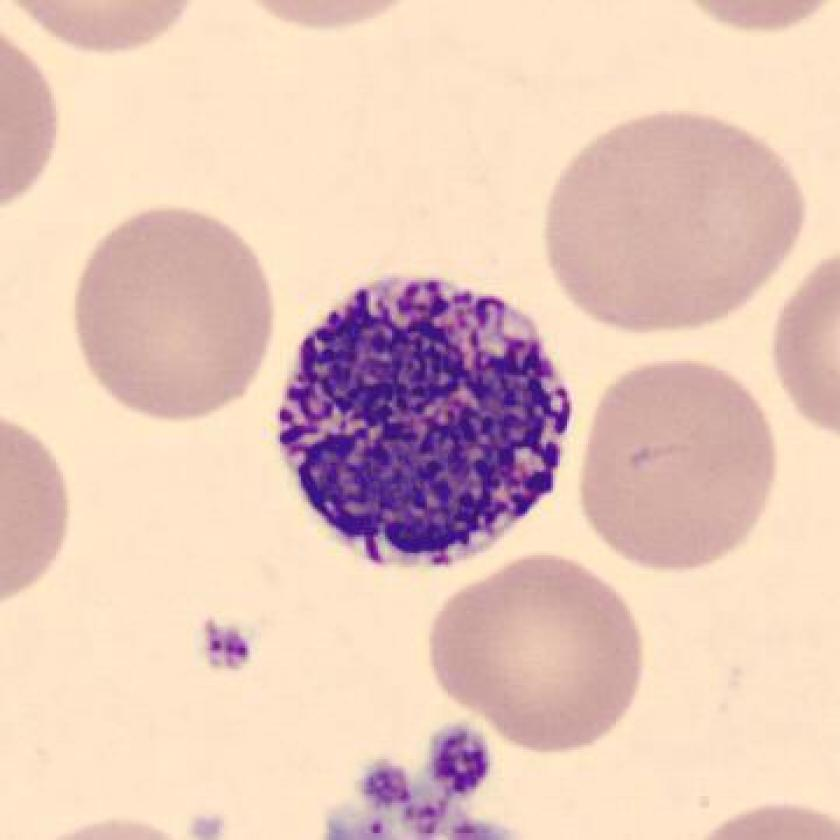basophil: (270, 270, 585, 578)
